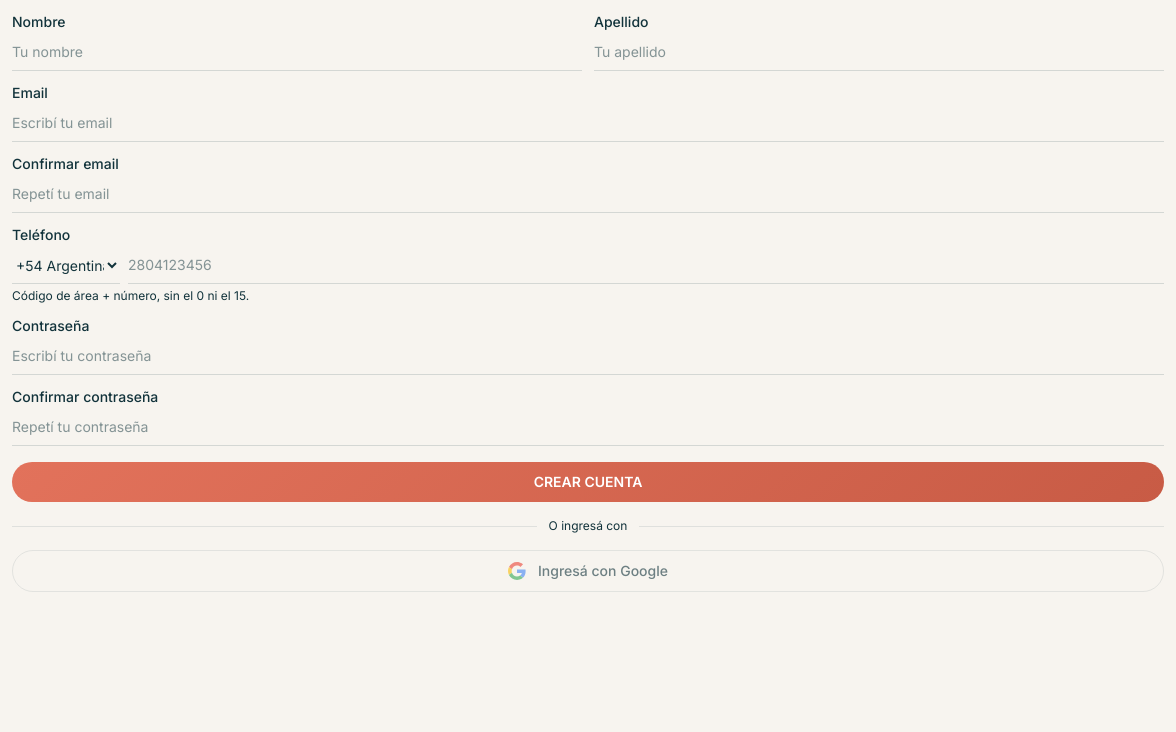
Test: RegisterForm › teléfono con letras: no envía, muestra error propio (el input ya filtra dígitos, pero por las dudas)
The width and height of the screenshot is (1176, 732).
Type "Ana" into the field labelled "Nombre" at (297, 52), box [12,34,582,71]
Type "Pérez" into the field labelled "Apellido" at (879, 52), box [594,34,1164,71]
Type "ana@example.com" into the field labelled "Email" at (588, 124), box [12,105,1164,142]
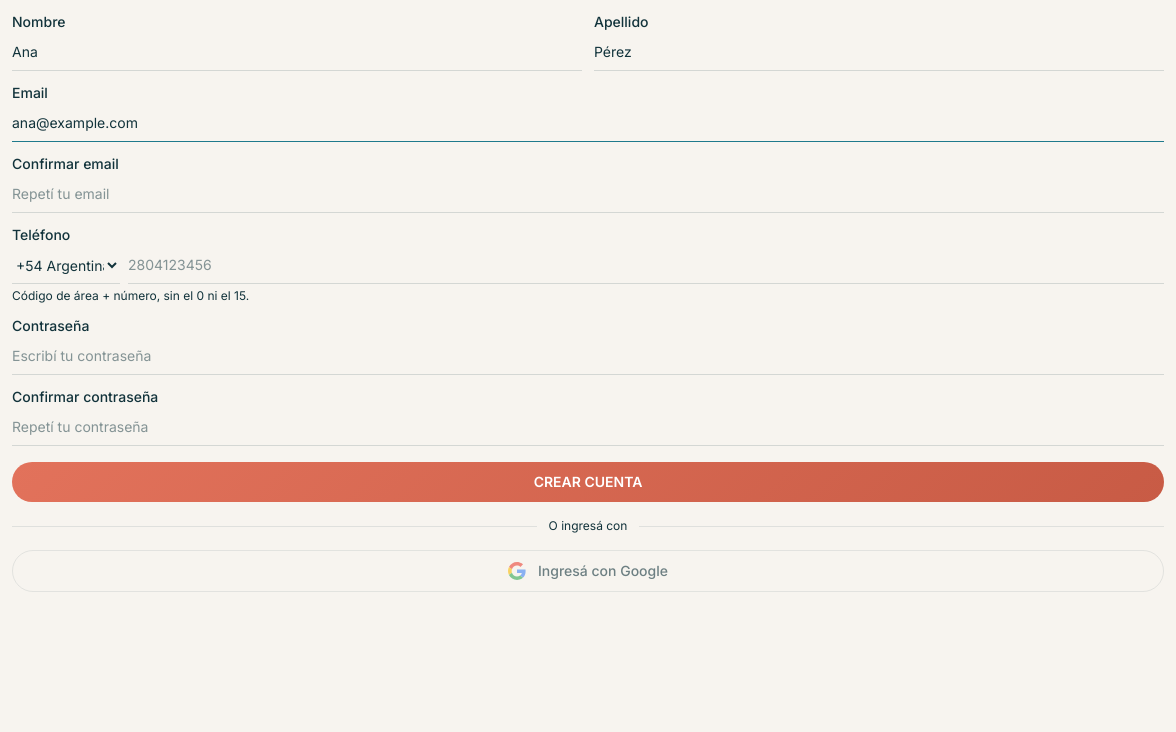
Type "ana@example.com" into the field labelled "Confirmar email" at (588, 194), box [12,176,1164,213]
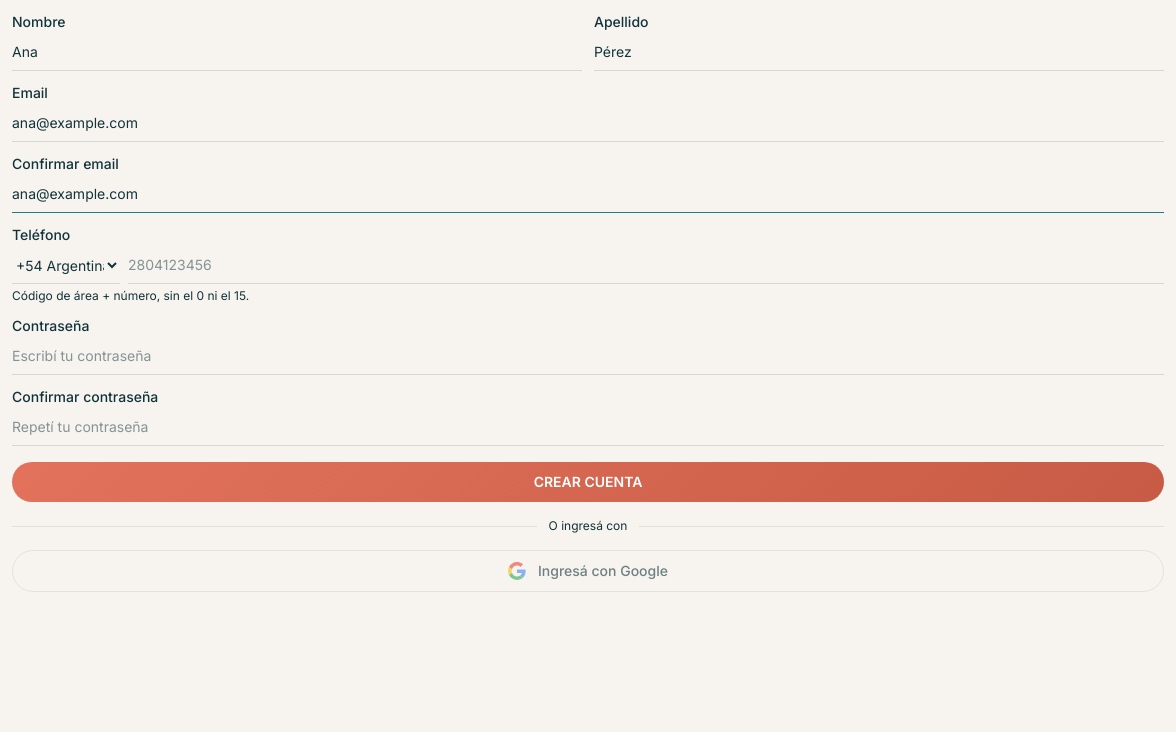
Type "password123" into the password field labelled "Contraseña" at (588, 356), box [12,338,1164,375]
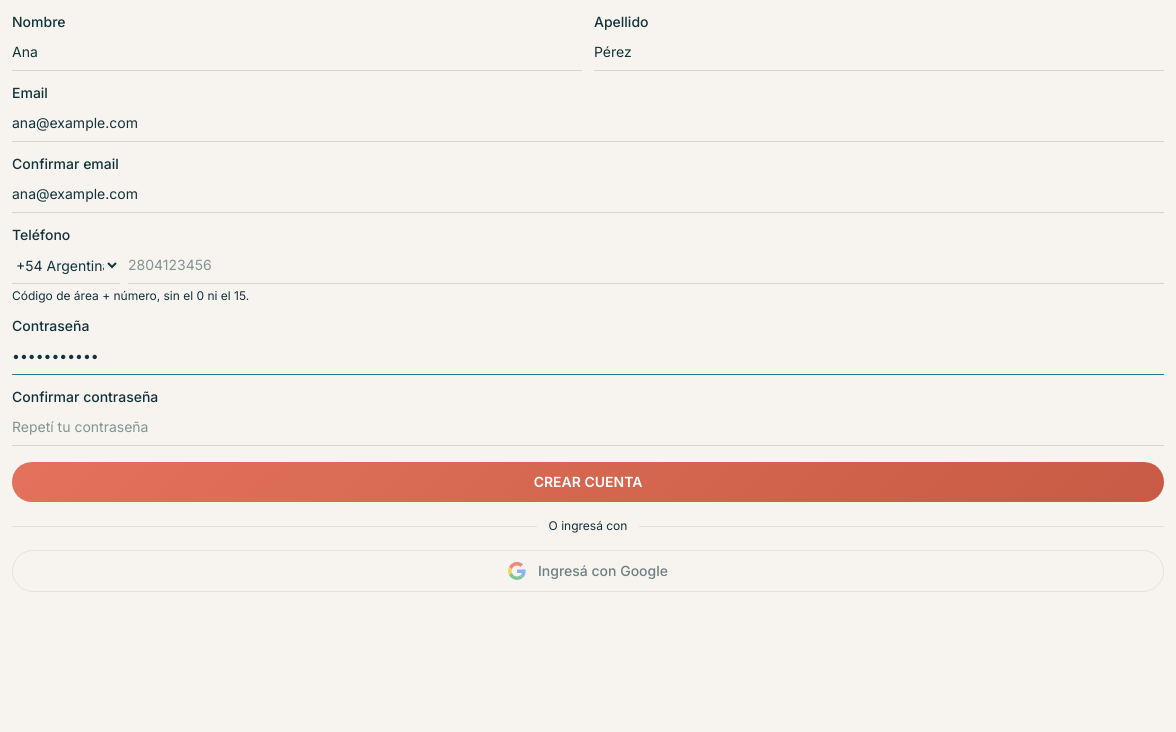
Type "password123" into the password field labelled "Confirmar contraseña" at (588, 428), box [12,409,1164,446]
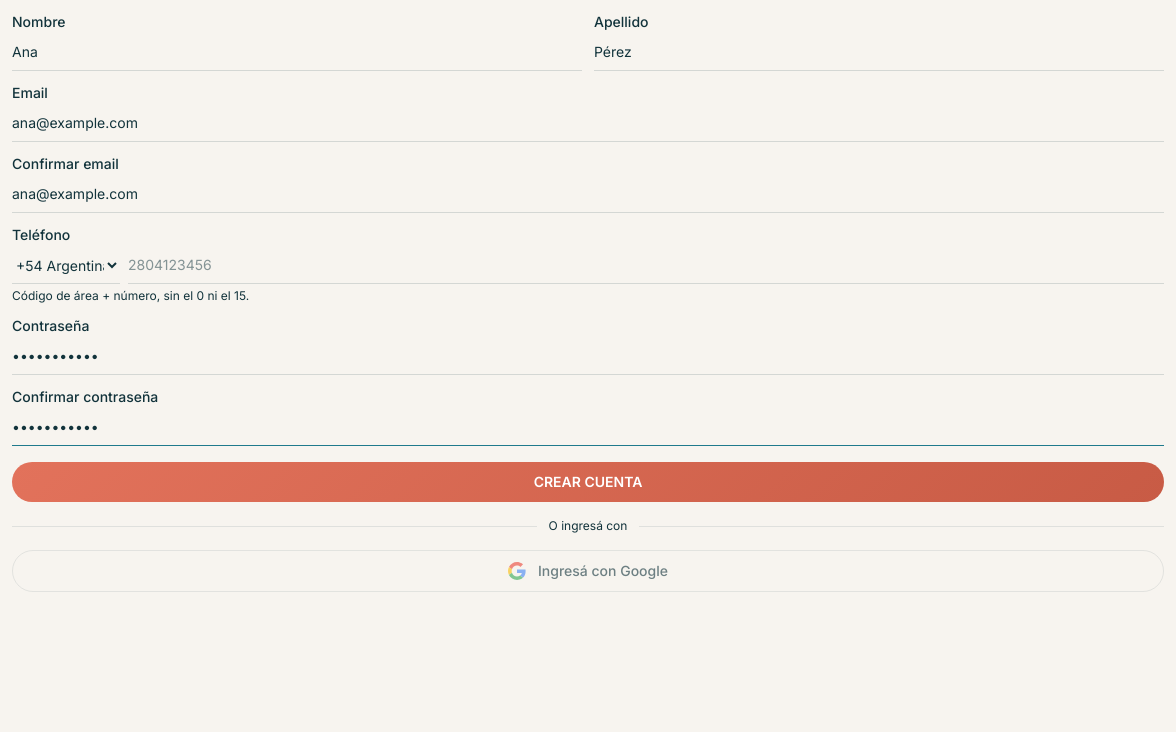
Type "12abc" into the field labelled "Teléfono" at (646, 266), box [128,247,1164,284]
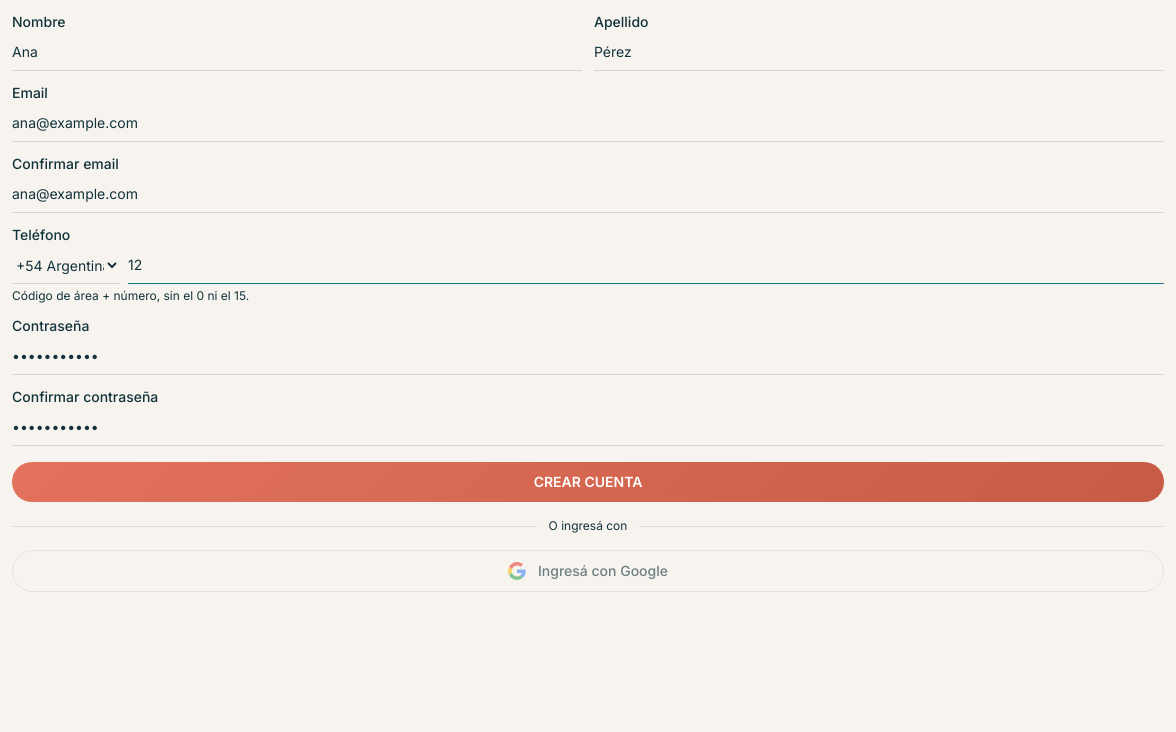
Click the button "Crear cuenta" at (588, 482), box [12,462,1164,502]
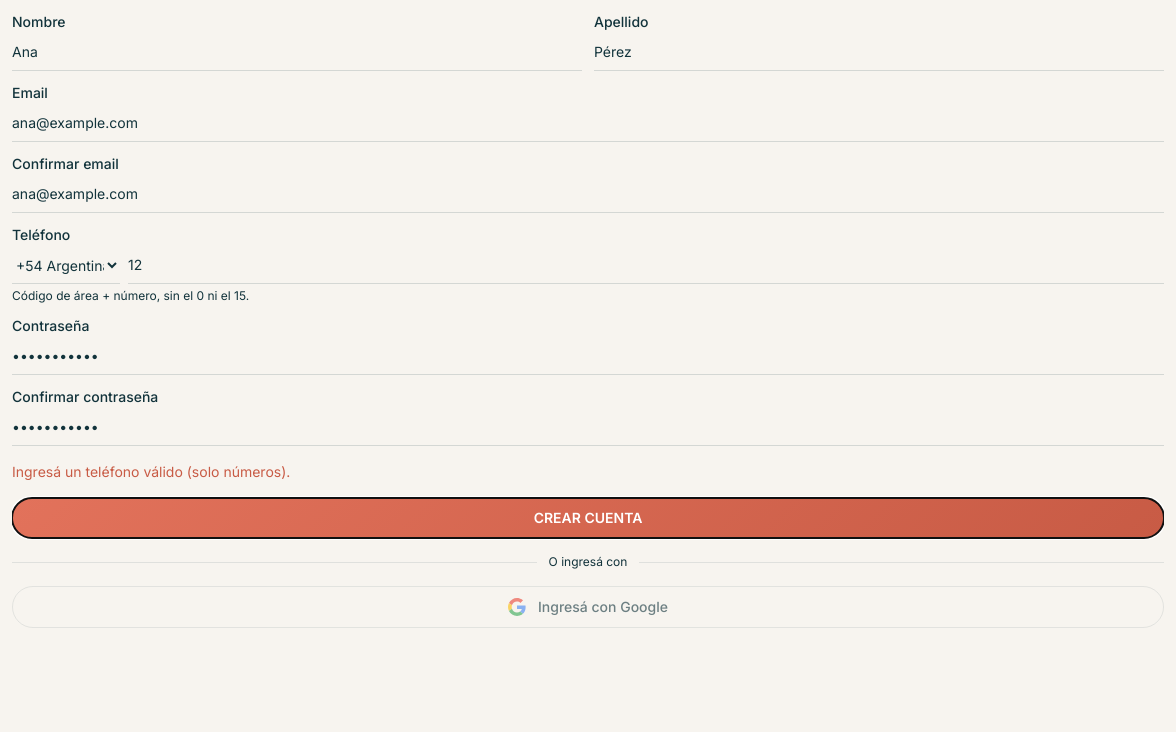
Now the message shows "teléfono válido", box [12,463,290,480]
